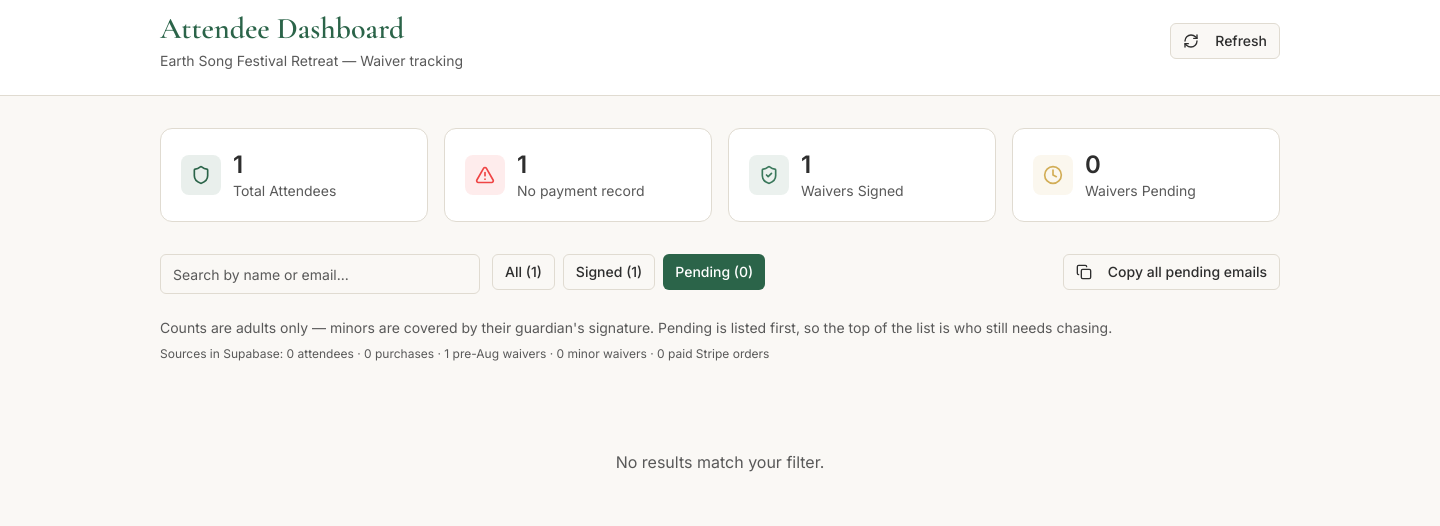
Test: flags › reports duplicate waivers for one person
The width and height of the screenshot is (1440, 526).
Click the button "all (1)" at (523, 272), box [492,254,555,290]
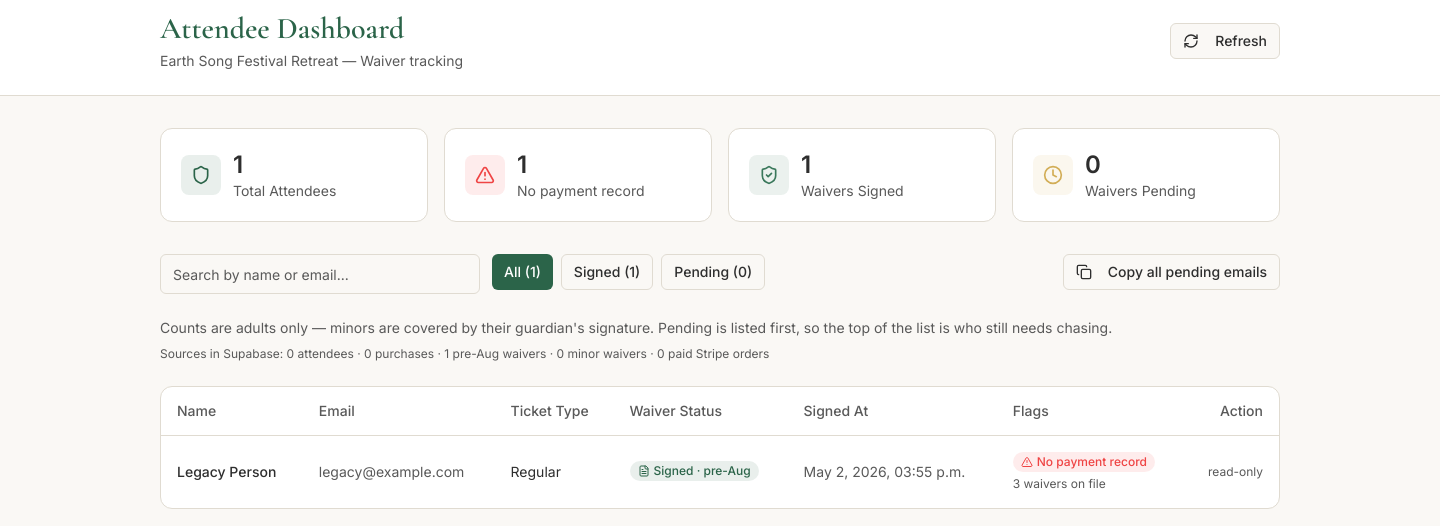
expect the text "3 waivers on file" is shown: met, box [1013,476,1106,490]
